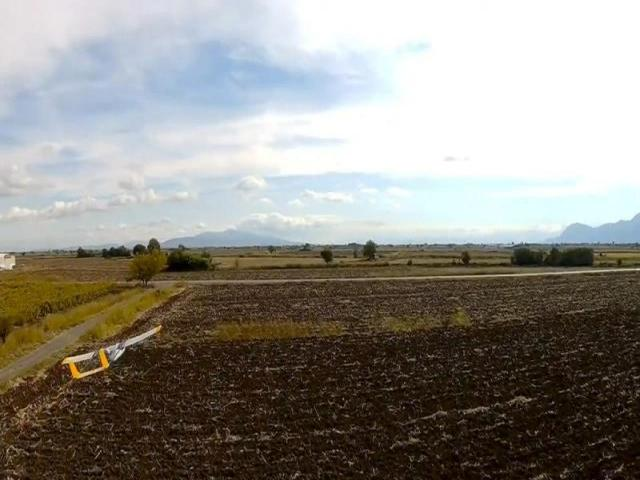hedef: (60, 321, 167, 383)
